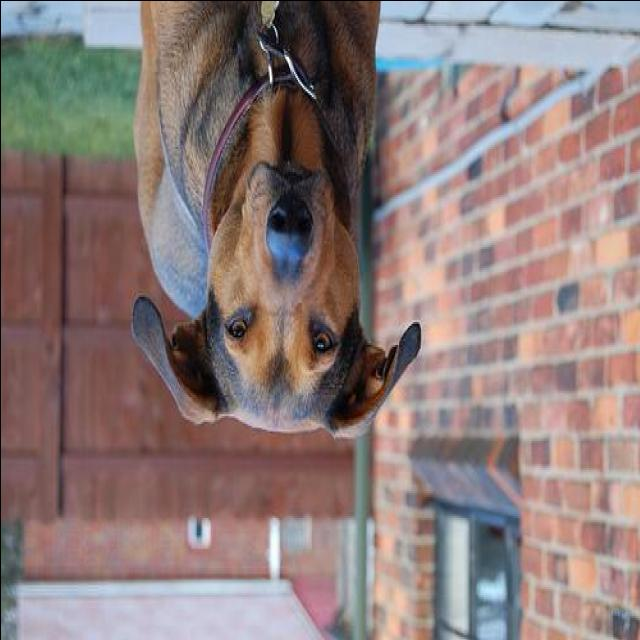rhodesian_ridgeback: (127, 4, 425, 448)
